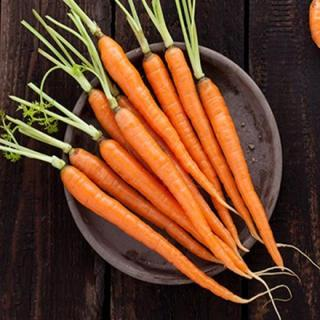carrot: (58, 159, 260, 311), (95, 24, 245, 214), (108, 94, 252, 278), (141, 47, 249, 257)
